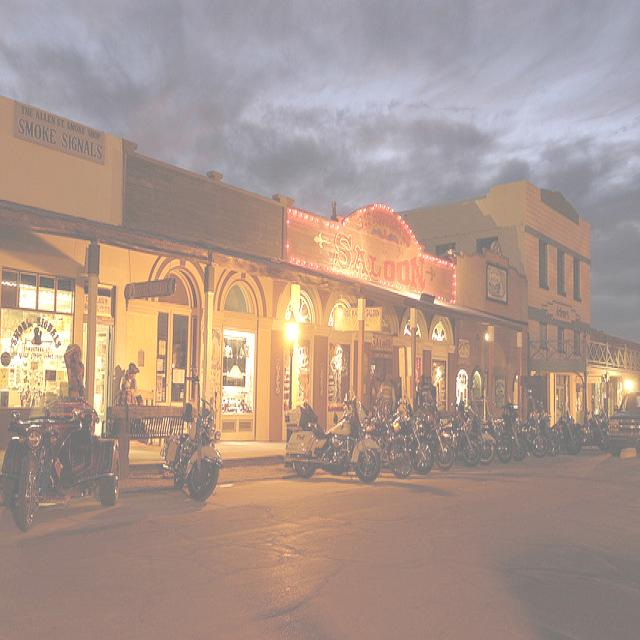Motorbike: (358, 383, 602, 470), (288, 394, 380, 488), (152, 400, 220, 508)
